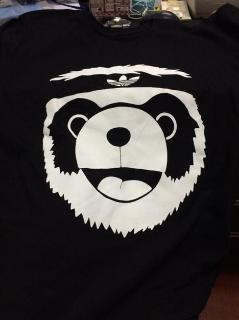short sleeve top: (0, 5, 239, 319)
